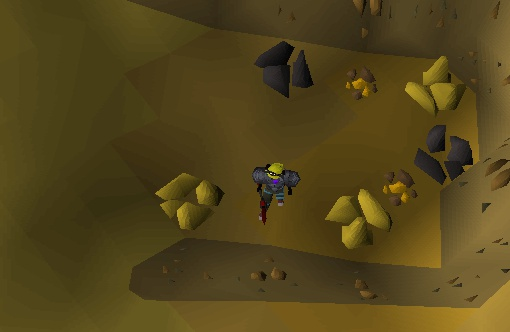depleted: (246, 31, 327, 106), (402, 116, 483, 191)
gold: (138, 163, 231, 239), (310, 181, 403, 257)
